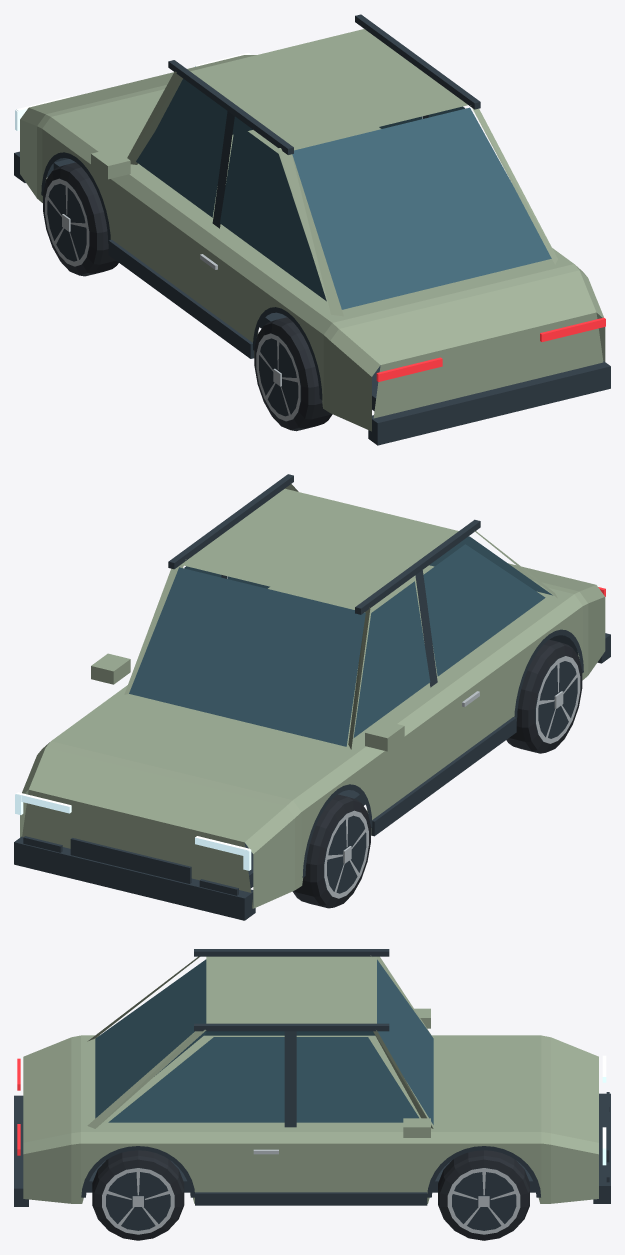
File: summit_x.glb
The picture shows the model from 3 angles, top to bottom: view 1: azimuth 30°, elevation 25°; view 2: azimuth 150°, elevation 25°; view 3: azimuth 270°, elevation 25°; orthographic projection. The views are drawn at different scales.
Parts seen in each view (by area): view 1: Body, Wheel_2, Wheel_0; view 2: Body, Wheel_0, Wheel_2; view 3: Body, Wheel_3, Wheel_1.
Part boxes in pixels (x1=…): Body: x1=14, y1=14, x2=610, y2=445; Wheel_2: x1=254, y1=317, x2=332, y2=431; Wheel_0: x1=43, y1=162, x2=118, y2=276; Body: x1=14, y1=474, x2=610, y2=920; Wheel_0: x1=292, y1=794, x2=370, y2=908; Wheel_2: x1=506, y1=639, x2=582, y2=753; Body: x1=14, y1=949, x2=610, y2=1206; Wheel_3: x1=92, y1=1150, x2=184, y2=1240; Wheel_1: x1=438, y1=1150, x2=529, y2=1240.
Size of the model in its own units: 2.22 by 1.75 by 4.73.
